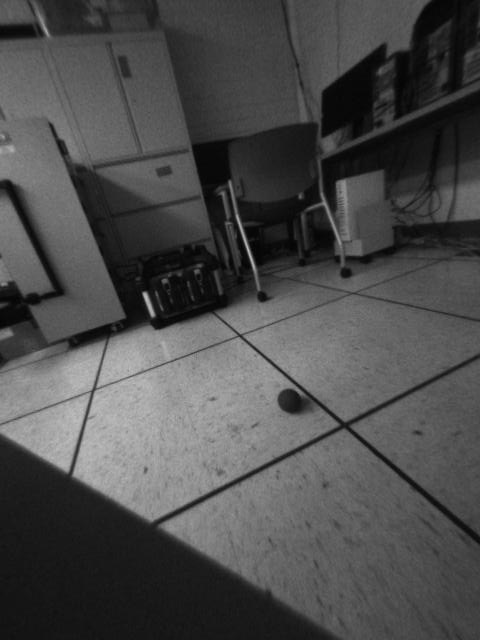dogtoy: (272, 380, 311, 417)
